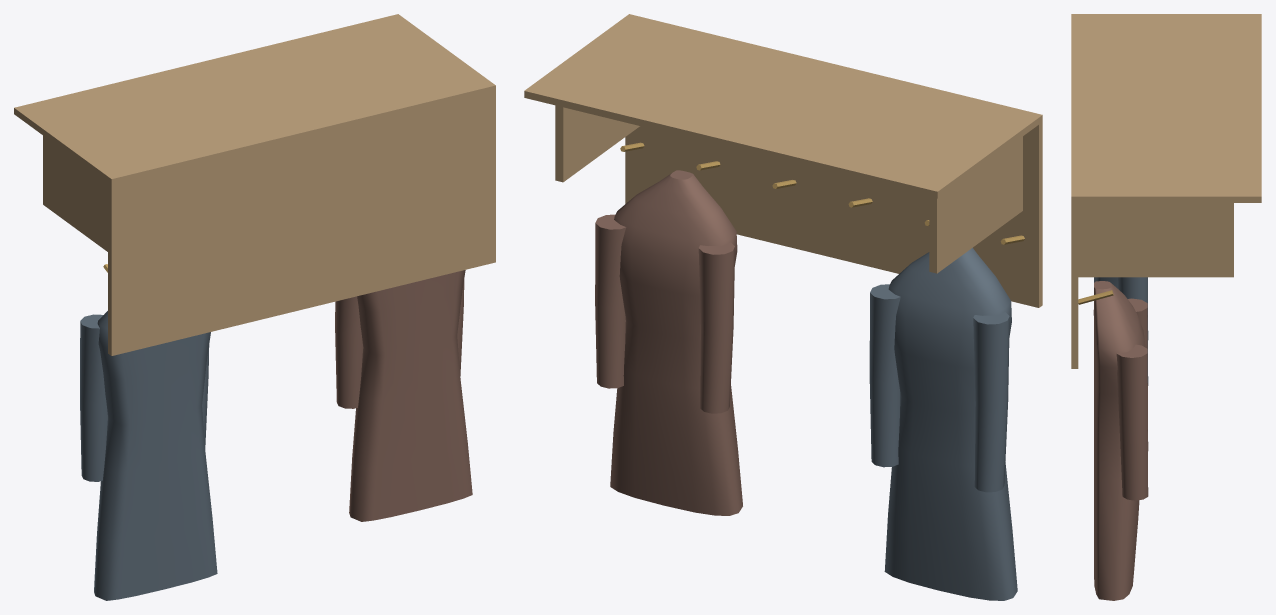
Rendered from parametric-wall-coat-rack-crew-1250x0550x1950.glb.
The picture shows the model from 3 angles, left to right: view 1: azimuth 30°, elevation 25°; view 2: azimuth 150°, elevation 25°; view 3: azimuth 270°, elevation 25°; orthographic projection. The views are drawn at different scales.
Visible parts, largest first — view 1: backboard, hat-shelf, coat:0, coat:1, bracket:-1, coat-sleeve:0:-1, coat-sleeve:1:-1; view 2: hat-shelf, coat:0, coat:1, backboard, bracket:-1, coat-sleeve:0:-1, coat-sleeve:1:-1, coat-sleeve:0:1, coat-sleeve:1:1, bracket:1; view 3: hat-shelf, bracket:1, coat:1, coat-sleeve:1:1, backboard, coat-sleeve:0:1, coat-sleeve:1:-1.
Part boxes in pixels (x1=…): backboard: x1=108, y1=92, x2=495, y2=355; hat-shelf: x1=14, y1=14, x2=495, y2=185; coat:0: x1=94, y1=311, x2=217, y2=600; coat:1: x1=349, y1=270, x2=472, y2=521; bracket:-1: x1=43, y1=135, x2=107, y2=251; coat-sleeve:0:-1: x1=80, y1=314, x2=107, y2=481; coat-sleeve:1:-1: x1=335, y1=296, x2=363, y2=408; hat-shelf: x1=524, y1=14, x2=1042, y2=198; coat:0: x1=884, y1=247, x2=1017, y2=600; coat:1: x1=610, y1=170, x2=742, y2=515; backboard: x1=625, y1=122, x2=1042, y2=307; bracket:-1: x1=929, y1=136, x2=1022, y2=273; coat-sleeve:0:-1: x1=973, y1=312, x2=1009, y2=492; coat-sleeve:1:-1: x1=698, y1=242, x2=734, y2=413; coat-sleeve:0:1: x1=869, y1=284, x2=900, y2=467; coat-sleeve:1:1: x1=595, y1=214, x2=626, y2=388; bracket:1: x1=555, y1=105, x2=639, y2=182; hat-shelf: x1=1071, y1=14, x2=1261, y2=202; bracket:1: x1=1078, y1=203, x2=1233, y2=277; coat:1: x1=1094, y1=281, x2=1145, y2=600; coat-sleeve:1:1: x1=1116, y1=344, x2=1148, y2=500; backboard: x1=1071, y1=203, x2=1078, y2=368; coat-sleeve:0:1: x1=1118, y1=277, x2=1148, y2=385; coat-sleeve:1:-1: x1=1128, y1=298, x2=1148, y2=450.
Bounding box in the file's own units: 1.25 × 1.35 × 0.55.
